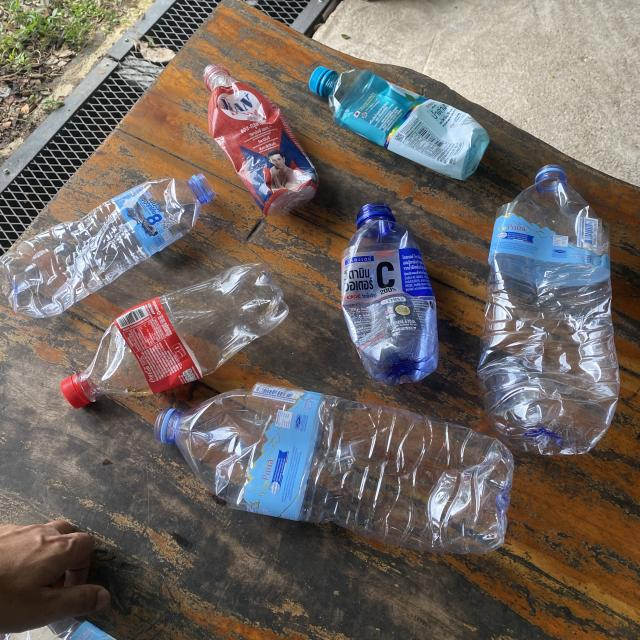plastik: (155, 384, 514, 554), (478, 165, 620, 455), (61, 262, 289, 408), (0, 174, 215, 318), (309, 66, 489, 180), (341, 202, 439, 386), (204, 64, 319, 215)
